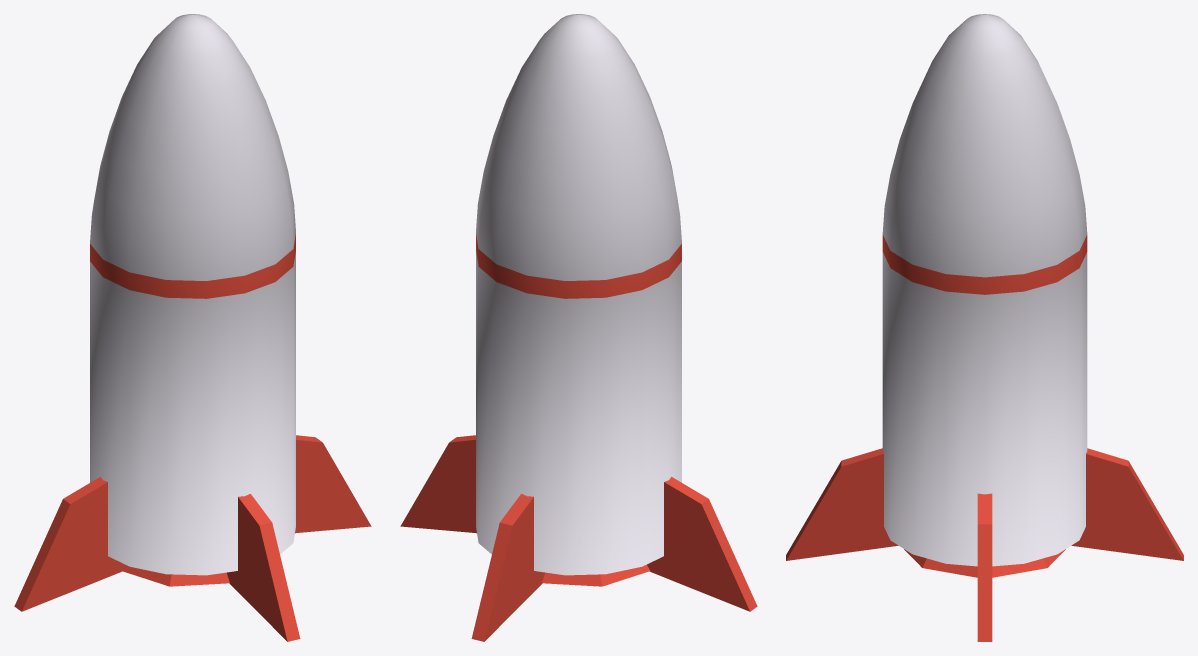
Rendered from missile.fbx.
3 views of the same model, side by side, from view 1: azimuth 30°, elevation 25°; view 2: azimuth 150°, elevation 25°; view 3: azimuth 270°, elevation 25° (orthographic).
Visible parts, largest first — view 1: Body, Wing, Bottom; view 2: Body, Wing, Bottom; view 3: Body, Wing, Bottom.
Part boxes in pixels (x1,y1,x2,y2): Body: (90, 14, 295, 575); Wing: (14, 435, 371, 641); Bottom: (121, 564, 229, 586); Body: (476, 14, 681, 575); Wing: (400, 435, 757, 641); Bottom: (542, 564, 650, 586); Body: (882, 14, 1087, 566); Wing: (786, 448, 1183, 641); Bottom: (904, 549, 1065, 577).
Size of the model in its own units: 0.5996 by 0.9028 by 0.5996.
